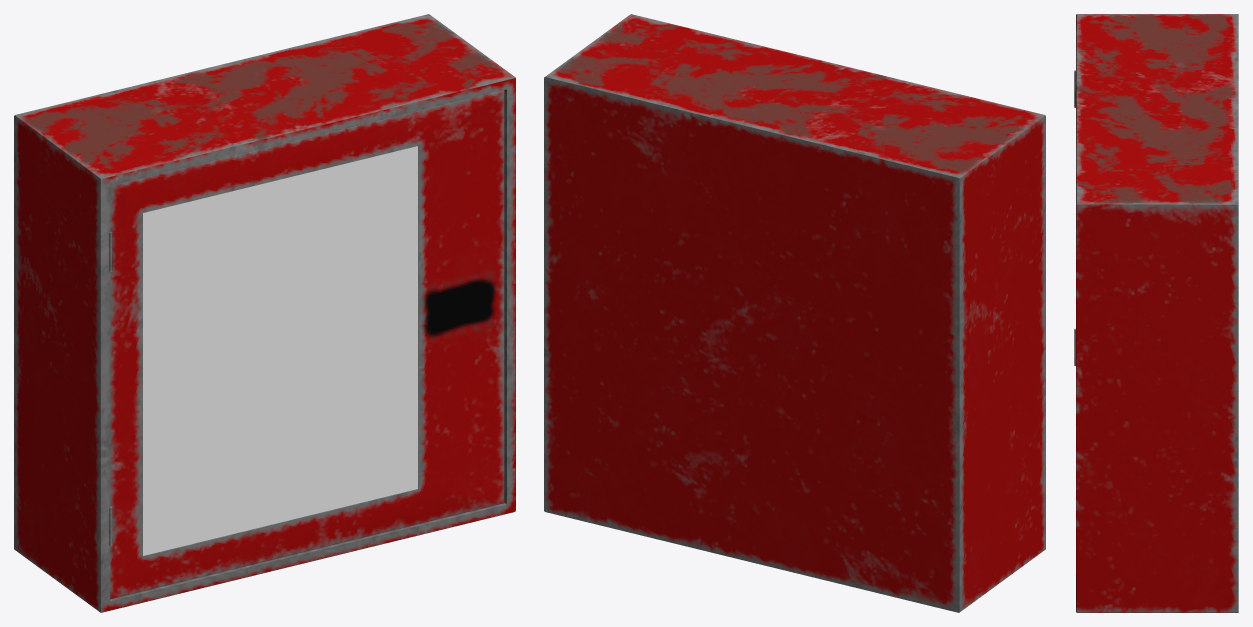
Rendered from cabinet.fbx.
3 renders of one model, left to right at view 1: azimuth 30°, elevation 25°; view 2: azimuth 150°, elevation 25°; view 3: azimuth 270°, elevation 25°, orthographic. The views are drawn at different scales.
Parts seen in each view (by area): view 1: Cabinet; view 2: Cabinet; view 3: Cabinet.
Part boxes in pixels (bbox=[...]): Cabinet: bbox=[14, 14, 515, 612]; Cabinet: bbox=[544, 14, 1045, 612]; Cabinet: bbox=[1074, 14, 1238, 612].
Size of the model in its own units: 0.4683 by 0.1708 by 0.4683.
Materials: 2 (1 with a texture image).
